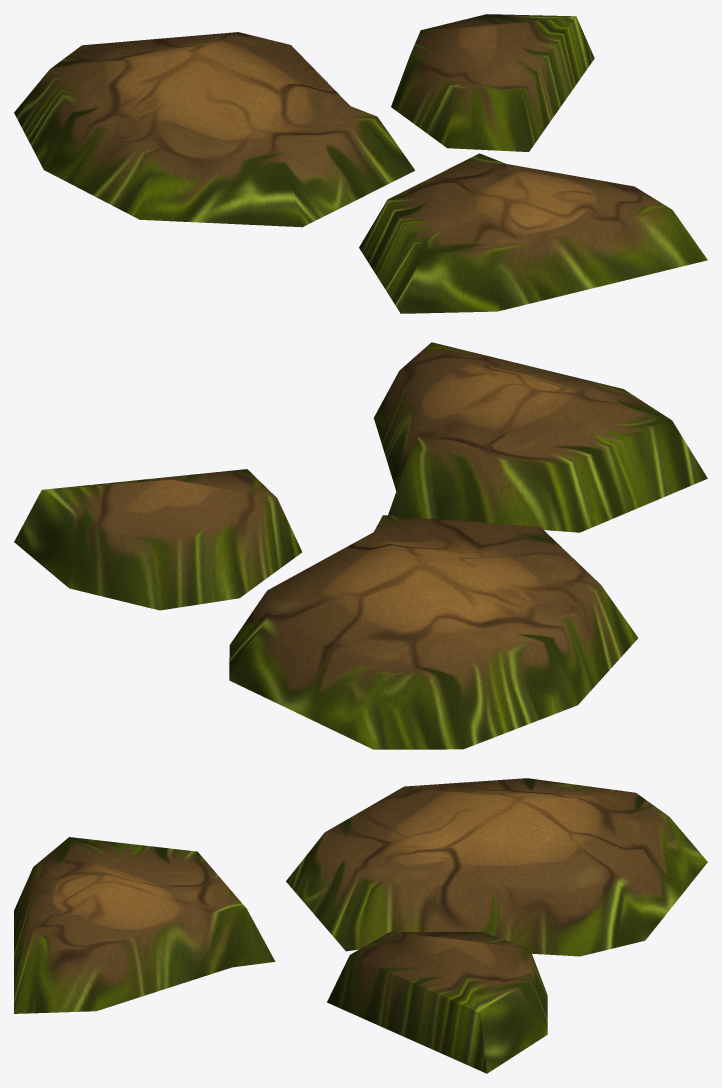
The model's file is SteppingStoneCluster1.obj.
3 views of the same model, one above another, from view 1: azimuth 30°, elevation 25°; view 2: azimuth 150°, elevation 25°; view 3: azimuth 270°, elevation 25° (orthographic). The views are drawn at different scales.
Visible parts, largest first — view 1: Mesh; view 2: Mesh; view 3: Mesh.
Part boxes in pixels (x1,y1,x2,y2): Mesh: (14, 14, 707, 313); Mesh: (14, 342, 707, 749); Mesh: (14, 778, 707, 1073).
Bounding box in the file's own units: 1.22 × 0.1894 × 1.39.
